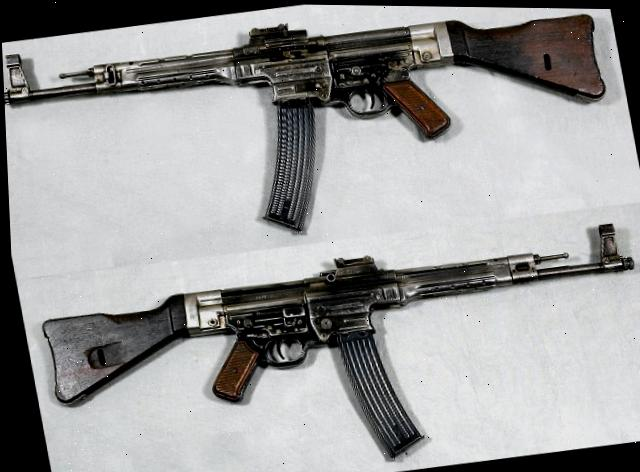rifle: (0, 0, 632, 272), (23, 200, 640, 472)
